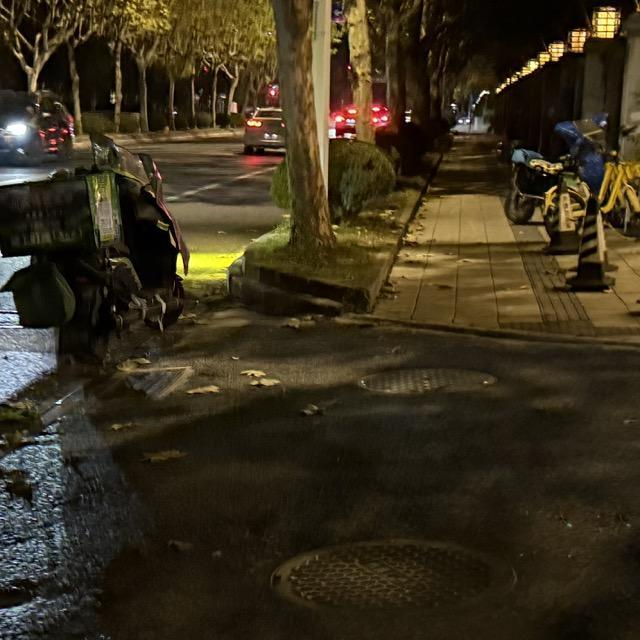curb: (245, 188, 426, 311), (228, 259, 341, 316), (116, 131, 243, 146)
